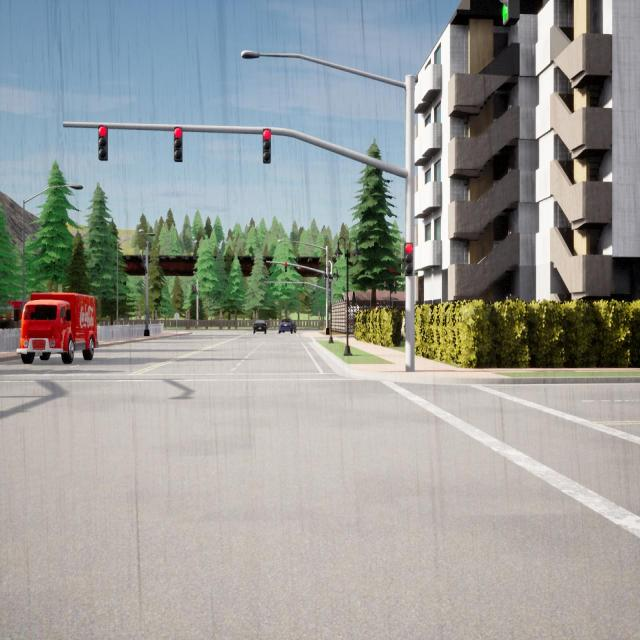Traffic_Signs: (174, 312, 180, 320)
Vehicle: (17, 293, 97, 363), (278, 318, 297, 334), (253, 320, 266, 334)
traffic_light: (501, 1, 520, 26), (98, 124, 108, 160), (404, 242, 414, 276), (174, 126, 182, 162), (263, 129, 271, 163), (284, 262, 287, 272), (270, 282, 273, 290), (302, 283, 304, 291), (285, 282, 287, 290), (198, 307, 200, 312), (192, 285, 193, 292), (193, 286, 194, 292)
